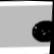correct: (28, 15, 53, 45)
